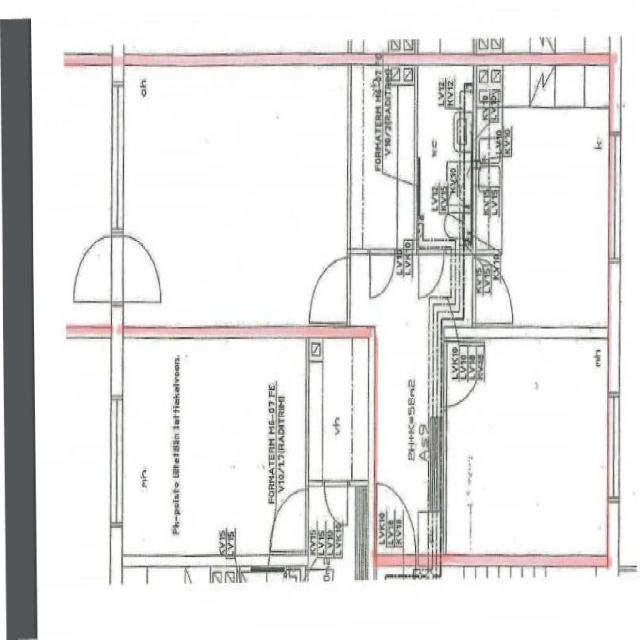door: (73, 235, 123, 303), (112, 235, 161, 303), (377, 488, 416, 568), (377, 555, 416, 634), (308, 258, 351, 324), (472, 257, 515, 323), (443, 342, 482, 405), (369, 249, 394, 296), (419, 249, 443, 296)
